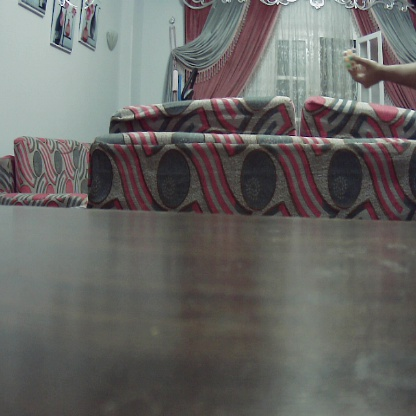Rubix Cube: (342, 48, 361, 68)
